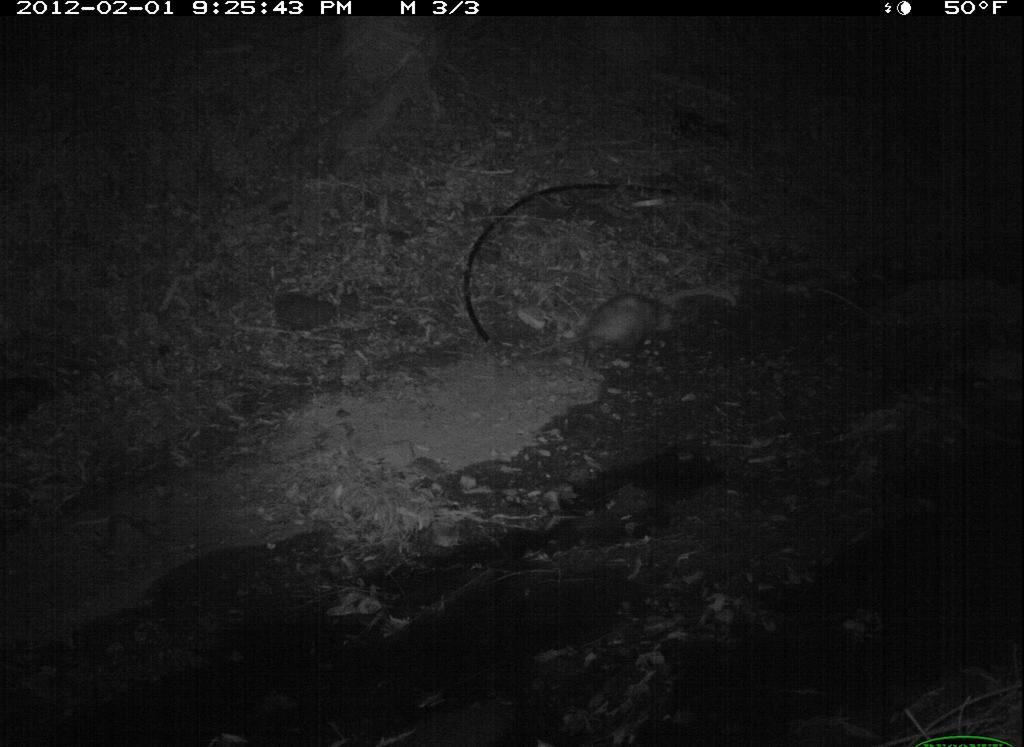opossum: (534, 286, 685, 378)
